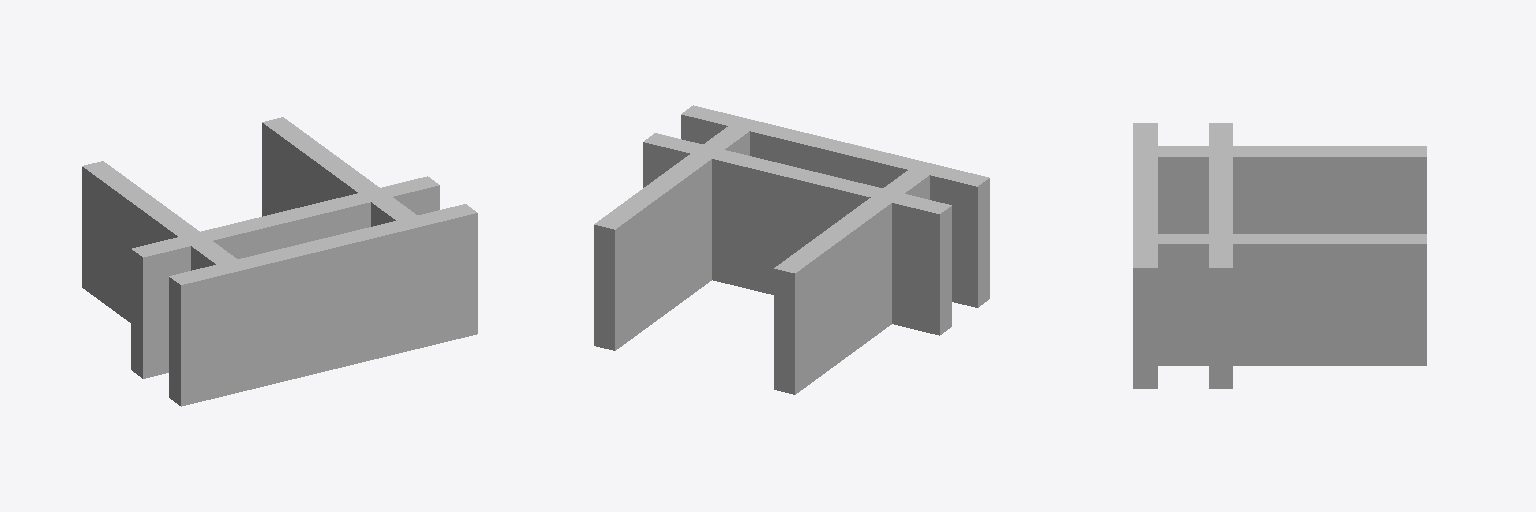
The model's file is torii.obj.
The picture shows the model from 3 angles: view 1: azimuth 30°, elevation 25°; view 2: azimuth 150°, elevation 25°; view 3: azimuth 270°, elevation 25°; orthographic projection.
Visible parts, largest first — view 1: Cube.002; view 2: Cube.002; view 3: Cube.002.
Boxes of the visible parts, x1=… form: Cube.002: x1=82, y1=117, x2=477, y2=406; Cube.002: x1=594, y1=105, x2=989, y2=394; Cube.002: x1=1133, y1=123, x2=1426, y2=388.
Size of the model in its own units: 5.12 by 2 by 4.39.